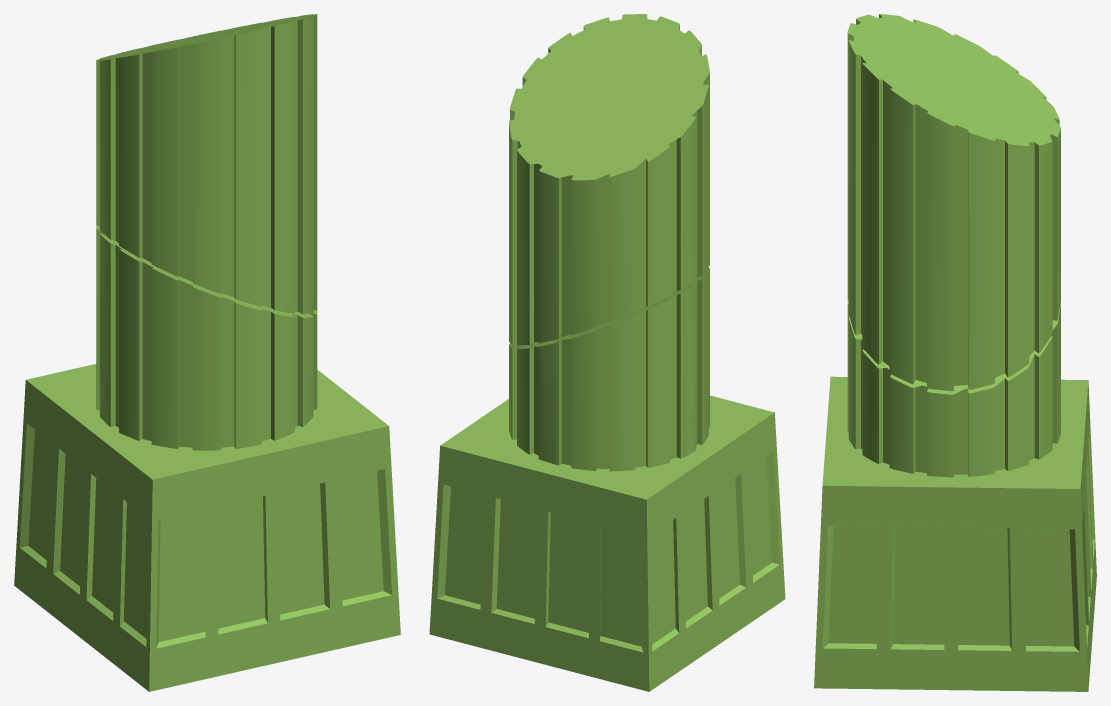
The model's file is ColumnHalf3.obj.
3 renders of one model, left to right at view 1: azimuth 30°, elevation 25°; view 2: azimuth 150°, elevation 25°; view 3: azimuth 270°, elevation 25°, orthographic. The views are drawn at different scales.
Visible parts, largest first — view 1: ColumnHalf3; view 2: ColumnHalf3; view 3: ColumnHalf3.
Part boxes in pixels (x1,y1,x2,y2): ColumnHalf3: (14, 14, 400, 691); ColumnHalf3: (429, 14, 785, 691); ColumnHalf3: (814, 14, 1096, 691).
Size of the model in its own units: 7.4 by 17.26 by 7.4.
